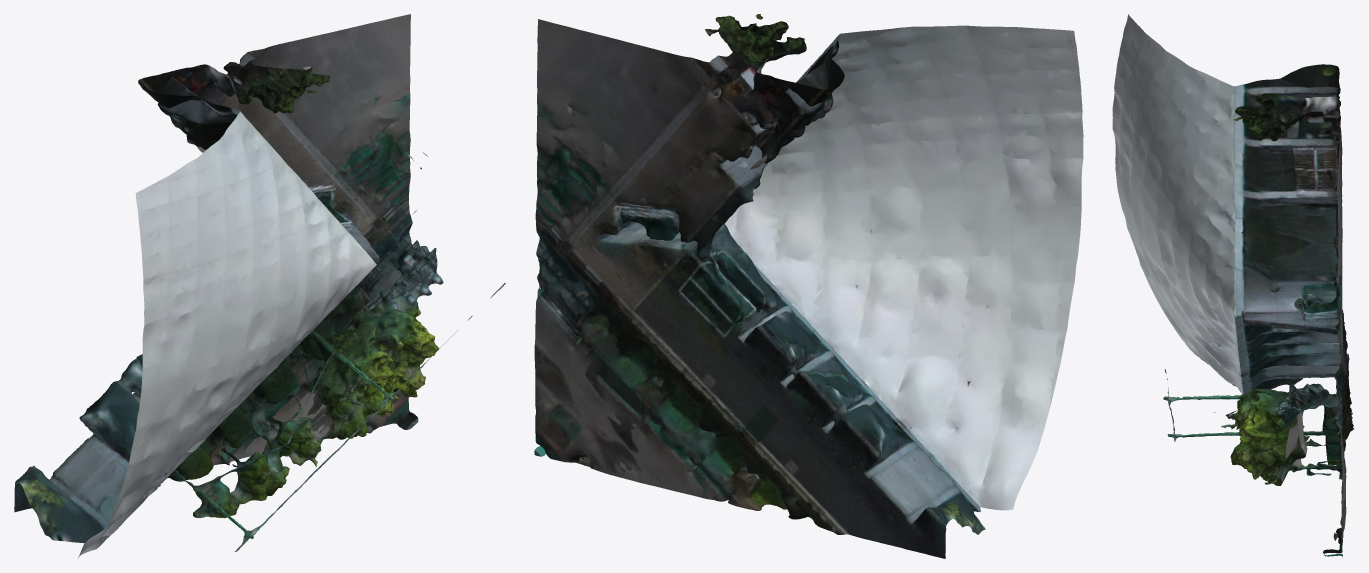
File: Tile_+013_+009.fbx
3 views of the same model, side by side, from view 1: azimuth 30°, elevation 25°; view 2: azimuth 150°, elevation 25°; view 3: azimuth 270°, elevation 25° (orthographic). The views are drawn at different scales.
Parts seen in each view (by area): view 1: DefaultName; view 2: DefaultName; view 3: DefaultName.
Part boxes in pixels (x1,y1,x2,y2): DefaultName: (14, 14, 505, 558); DefaultName: (534, 14, 1083, 558); DefaultName: (1112, 14, 1354, 557).
Size of the model in its own units: 22.54 by 22.54 by 13.3.
